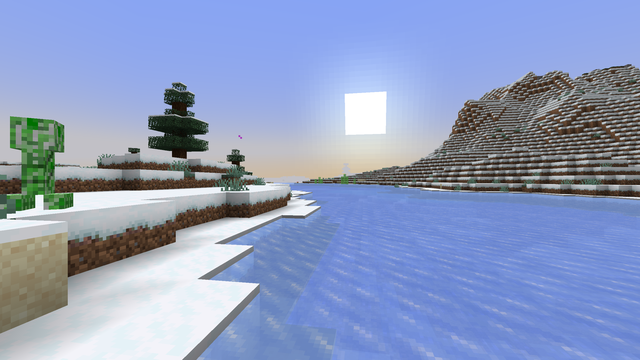creepers: (1, 111, 72, 218)
